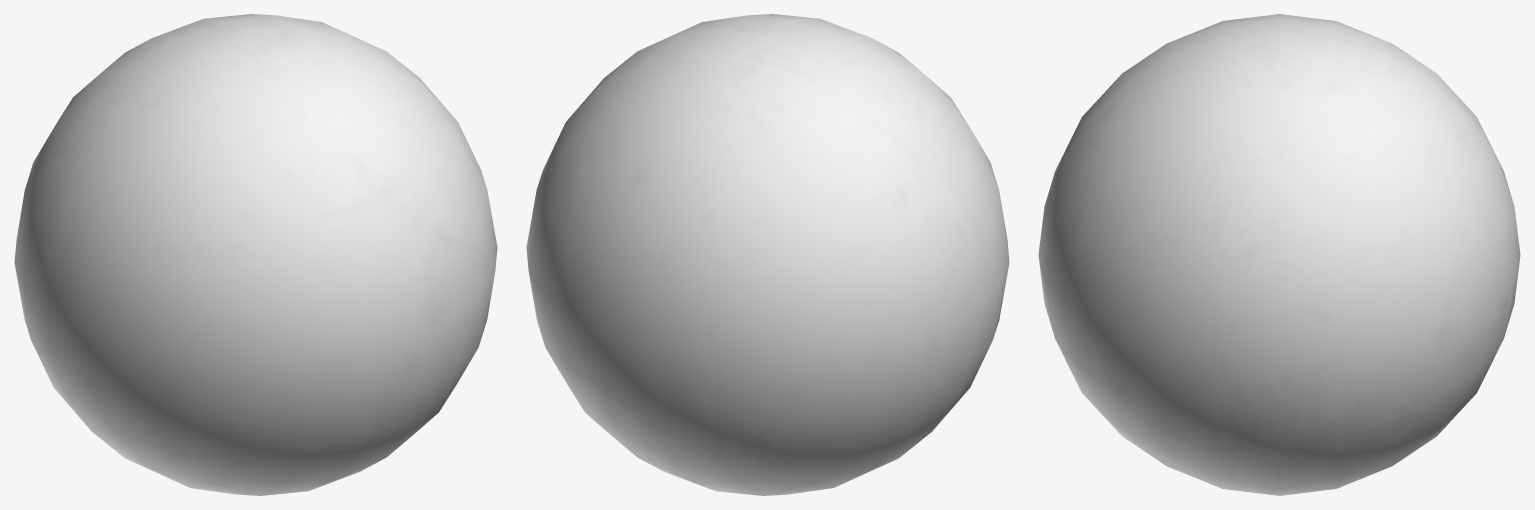
File: PoolBall_0.FBX
3 renders of one model, left to right at view 1: azimuth 30°, elevation 25°; view 2: azimuth 150°, elevation 25°; view 3: azimuth 270°, elevation 25°, orthographic.
Parts seen in each view (by area): view 1: PoolBall_White; view 2: PoolBall_White; view 3: PoolBall_White.
Boxes of the visible parts, x1,y1,x2,y2 form: PoolBall_White: (14, 14, 497, 495); PoolBall_White: (526, 14, 1009, 495); PoolBall_White: (1038, 14, 1520, 495).
Size of the model in its own units: 6.5 by 6.5 by 6.5.
